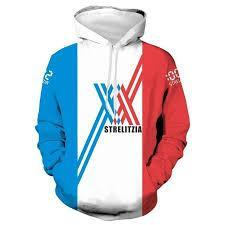sweater: (38, 5, 189, 218)
